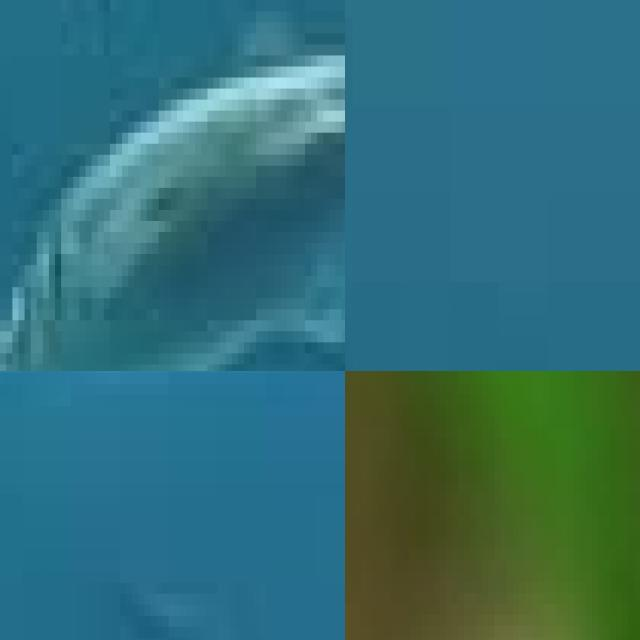fish: (0, 0, 345, 371)
